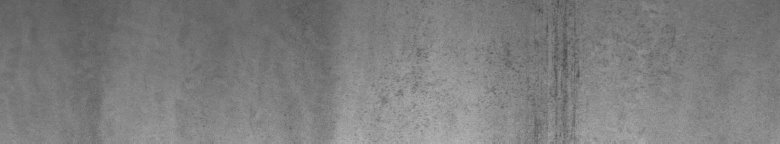ka: (505, 9, 580, 128)
